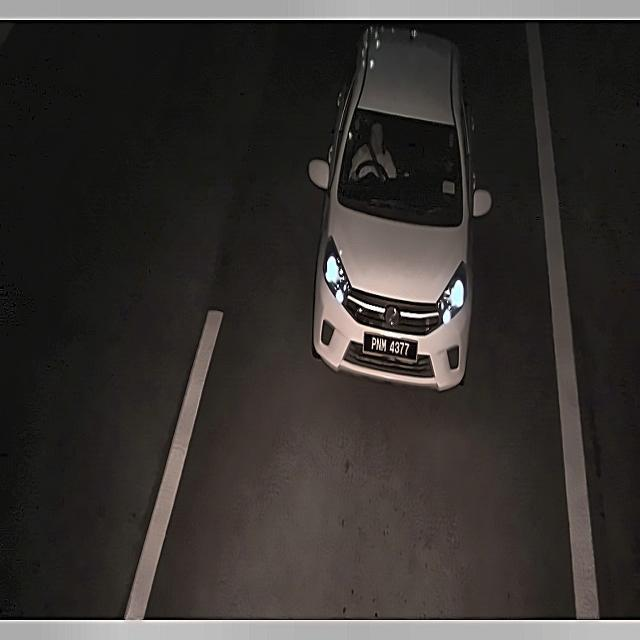car: (360, 322, 425, 369)
